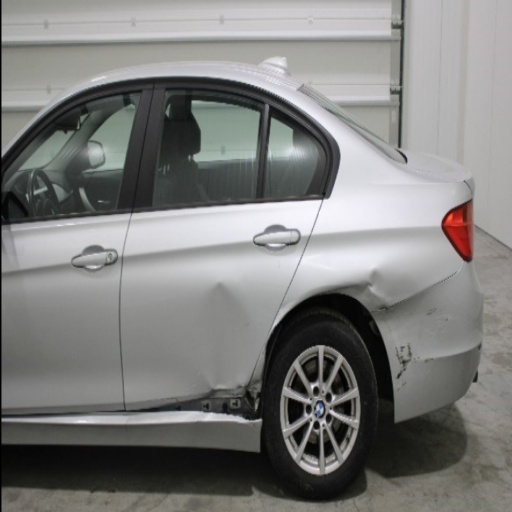dent: (197, 280, 264, 396), (319, 265, 422, 313), (370, 293, 423, 347), (259, 296, 297, 362), (248, 376, 262, 397)
scratch: (147, 396, 181, 403), (435, 313, 452, 324), (424, 307, 440, 318)
